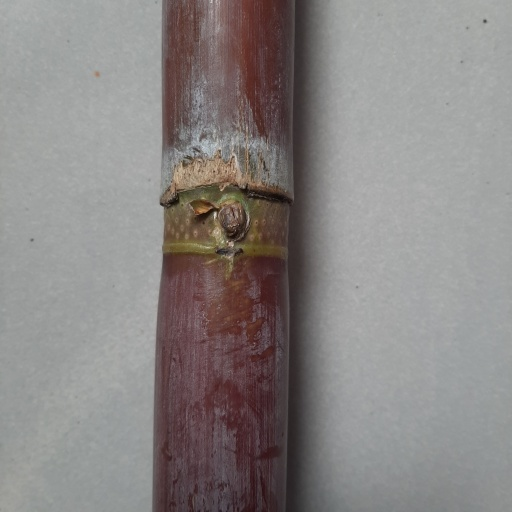Bud: (218, 200, 246, 240)
